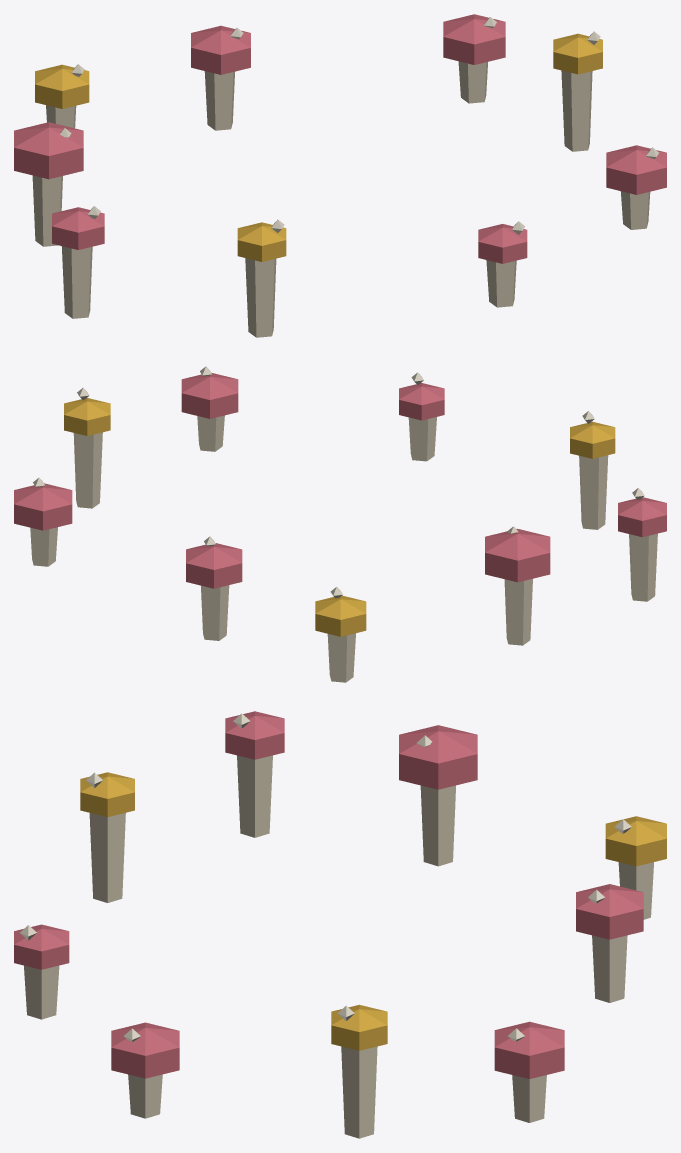
Rendered from mushroom_ring.glb.
3 views of the same model, one above another, from view 1: azimuth 30°, elevation 25°; view 2: azimuth 150°, elevation 25°; view 3: azimuth 270°, elevation 25° (orthographic). The views are drawn at different scales.
Parts seen in each view (by area): view 1: mushroom_ring; view 2: mushroom_ring; view 3: mushroom_ring.
Part boxes in pixels (x1=…): mushroom_ring: x1=14, y1=14, x2=666, y2=337; mushroom_ring: x1=14, y1=366, x2=666, y2=682; mushroom_ring: x1=14, y1=711, x2=666, y2=1138.
Bounding box in the file's own units: 1.77 × 0.3323 × 1.49.
